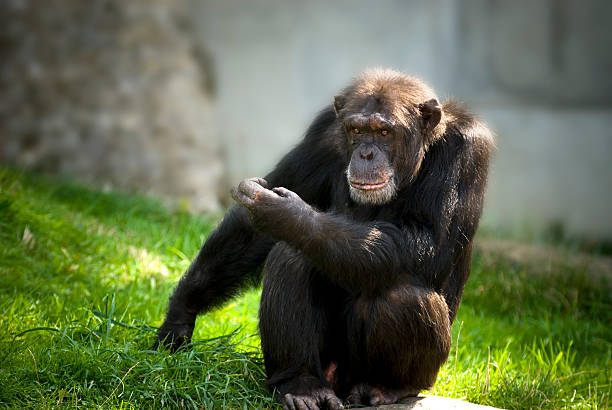chimpanzee: (317, 64, 453, 222)
